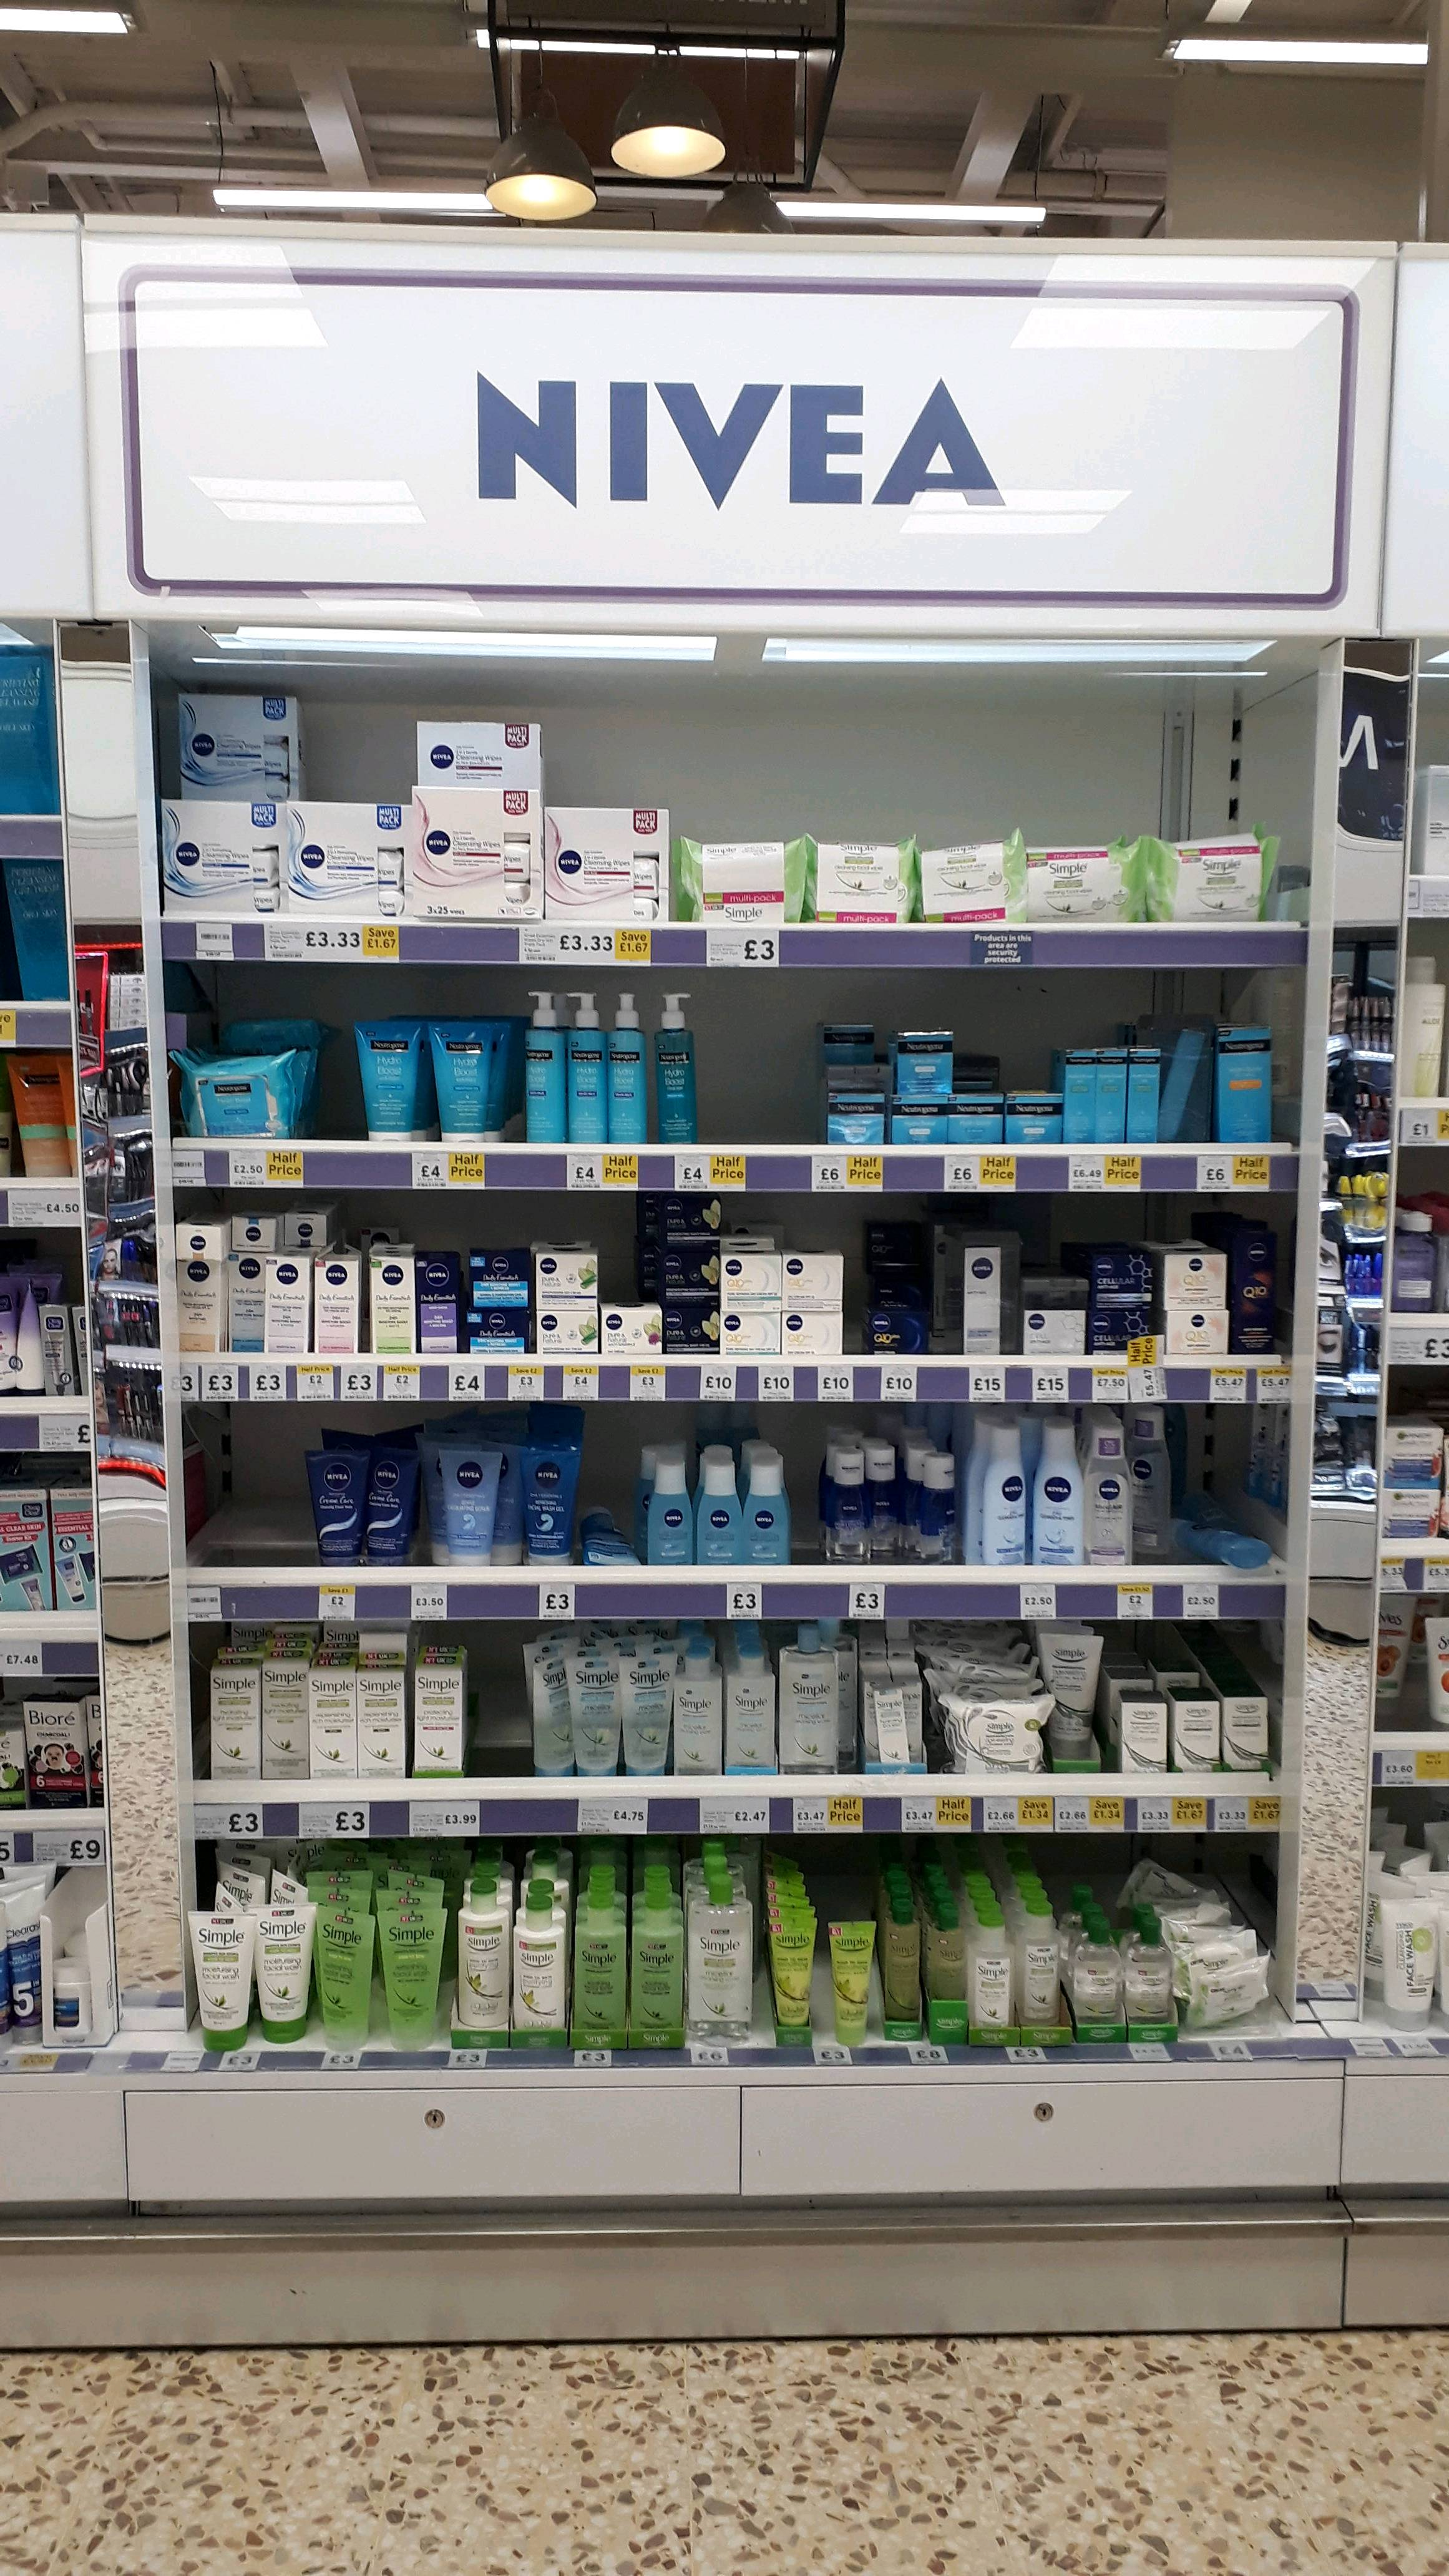Out-of-stock: (701, 984, 780, 1187)
